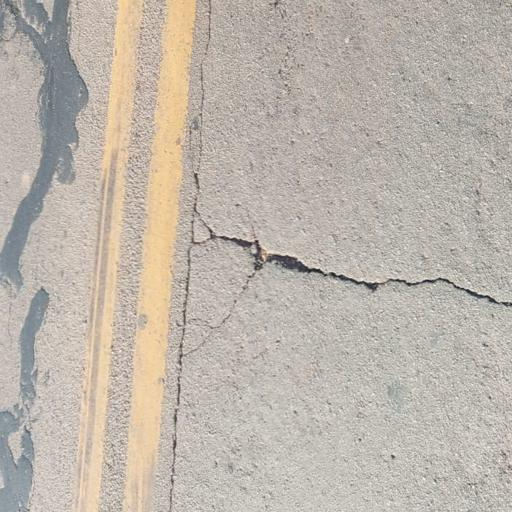GRIETA: (210, 235, 511, 306), (185, 257, 265, 358), (169, 238, 193, 511), (193, 0, 215, 234)
